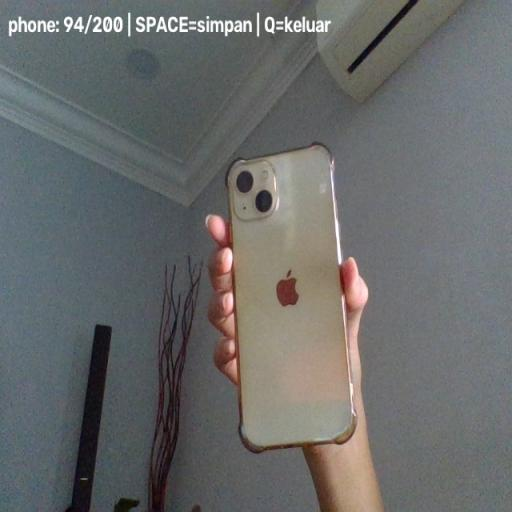Phone: (226, 143, 356, 451)
